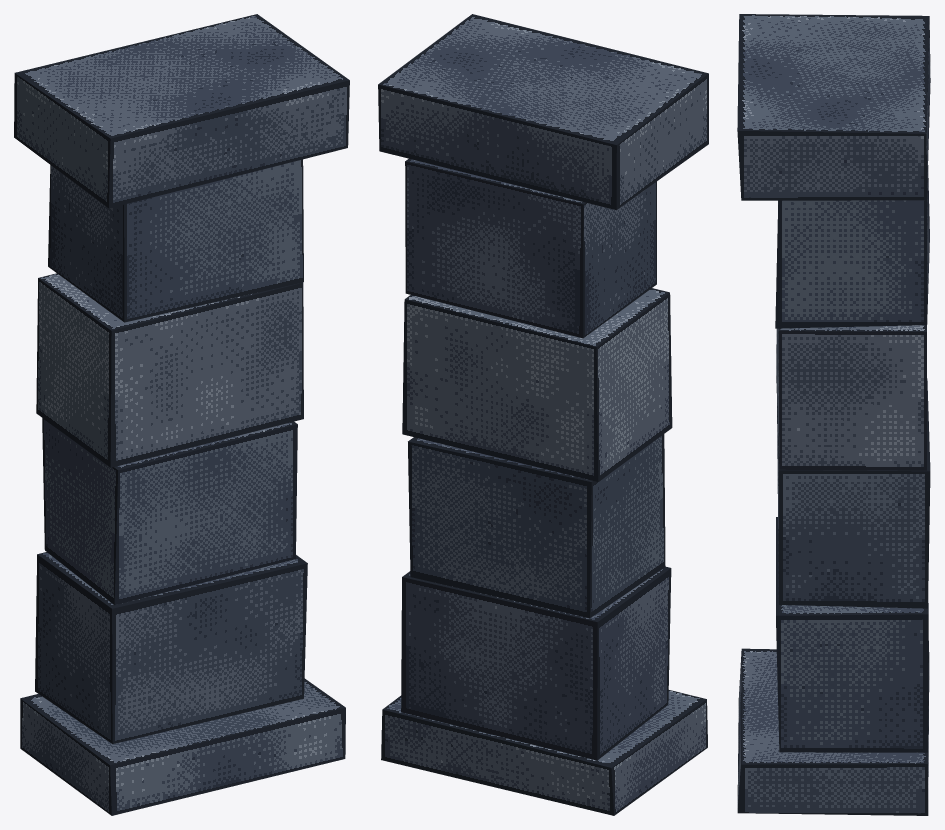
The model's file is SM_Env_Pilaster_2m.glb.
The picture shows the model from 3 angles, left to right: view 1: azimuth 30°, elevation 25°; view 2: azimuth 150°, elevation 25°; view 3: azimuth 270°, elevation 25°; orthographic projection.
Parts seen in each view (by area): view 1: impost, course2, course0, course1, course3, plinth; view 2: impost, course2, course0, course1, course3, plinth; view 3: impost, course0, course2, course1, course3, plinth.
Part boxes in pixels (<box>): impost: <box>14,14,349,208</box>; course2: <box>36,273,303,467</box>; course0: <box>35,552,307,744</box>; course1: <box>42,418,297,605</box>; course3: <box>48,159,303,322</box>; plinth: <box>20,678,345,815</box>; impost: <box>378,14,708,209</box>; course2: <box>402,288,672,481</box>; course0: <box>401,567,671,760</box>; course1: <box>408,434,665,618</box>; course3: <box>405,158,656,338</box>; plinth: <box>381,690,707,815</box>; impost: <box>737,14,930,200</box>; course0: <box>776,517,928,752</box>; course2: <box>776,325,926,470</box>; course1: <box>777,378,930,608</box>; course3: <box>775,165,929,328</box>; plinth: <box>737,648,929,815</box>.
Size of the model in its own units: 0.7453 by 2 by 0.5109.
Materials: 1 (1 with a texture image).
